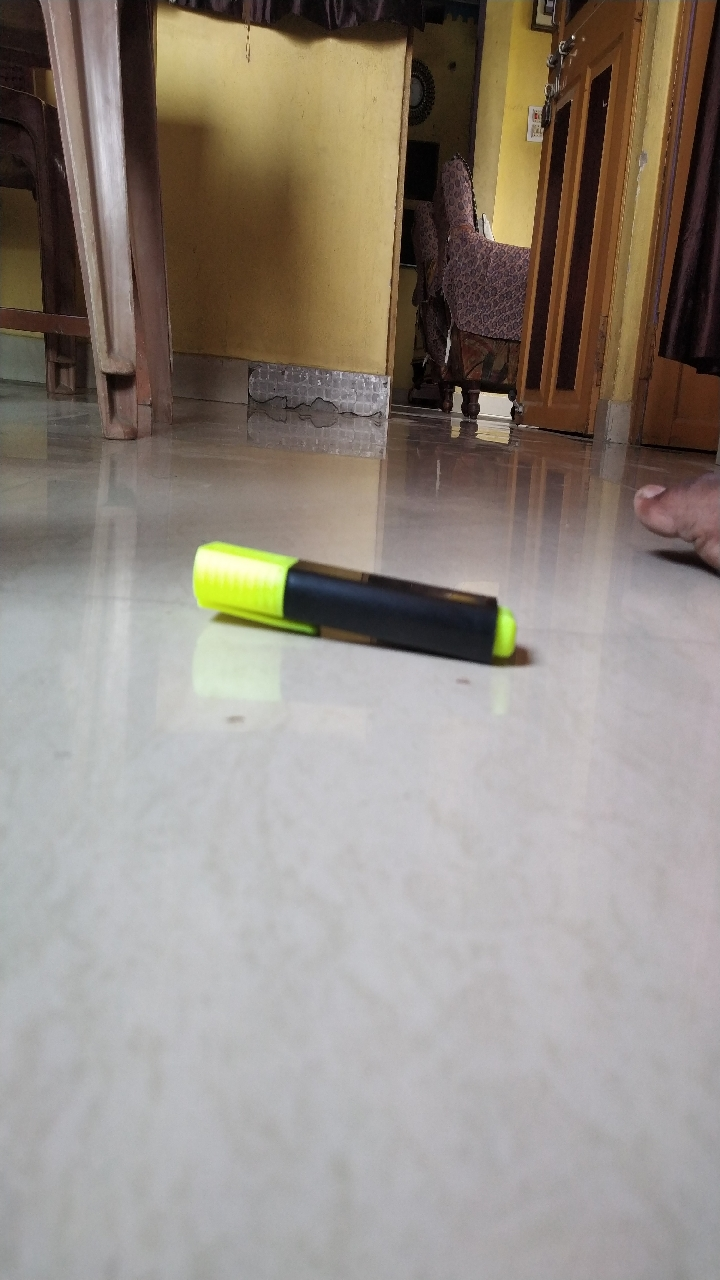Doors: (514, 80, 605, 450), (645, 156, 720, 463)
Furnitures: (1, 1, 177, 457), (437, 319, 516, 431)
garments: (178, 529, 528, 685)
